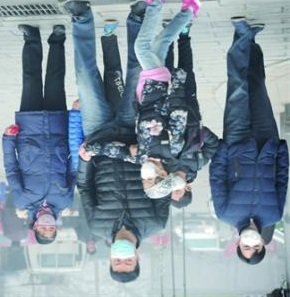person: (63, 1, 173, 285), (81, 2, 196, 199), (212, 15, 290, 262), (4, 22, 73, 246), (161, 18, 221, 208), (1, 191, 29, 250), (73, 209, 104, 257)
